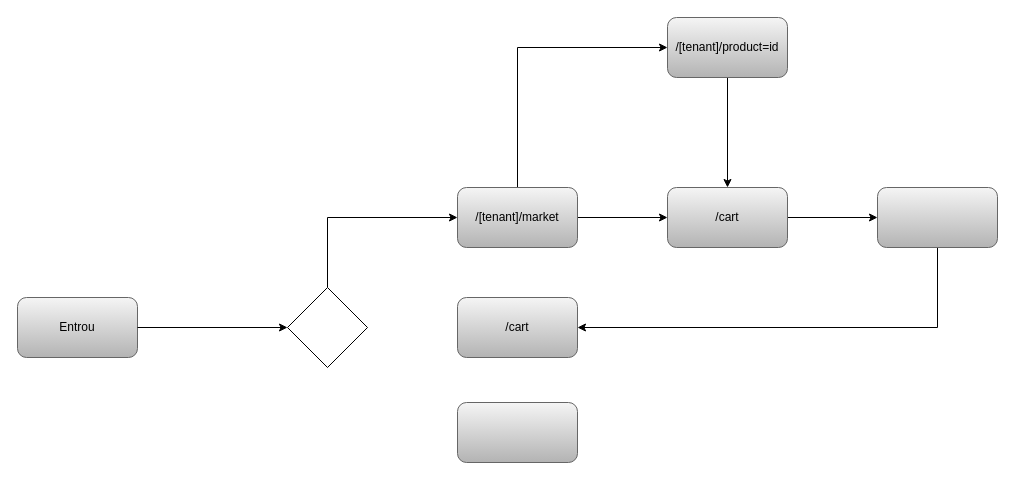
The diagram is 1015 pixels wide and 480 high, and some of its shapes have lost their labels. The shapes that lost their labels are listed below. From the top down, each one's centre as x and y in pixels, then its label:
At point 937,217: "/checkout".
At point 327,327: "/[tenant]".
At point 517,432: "/perfil".
